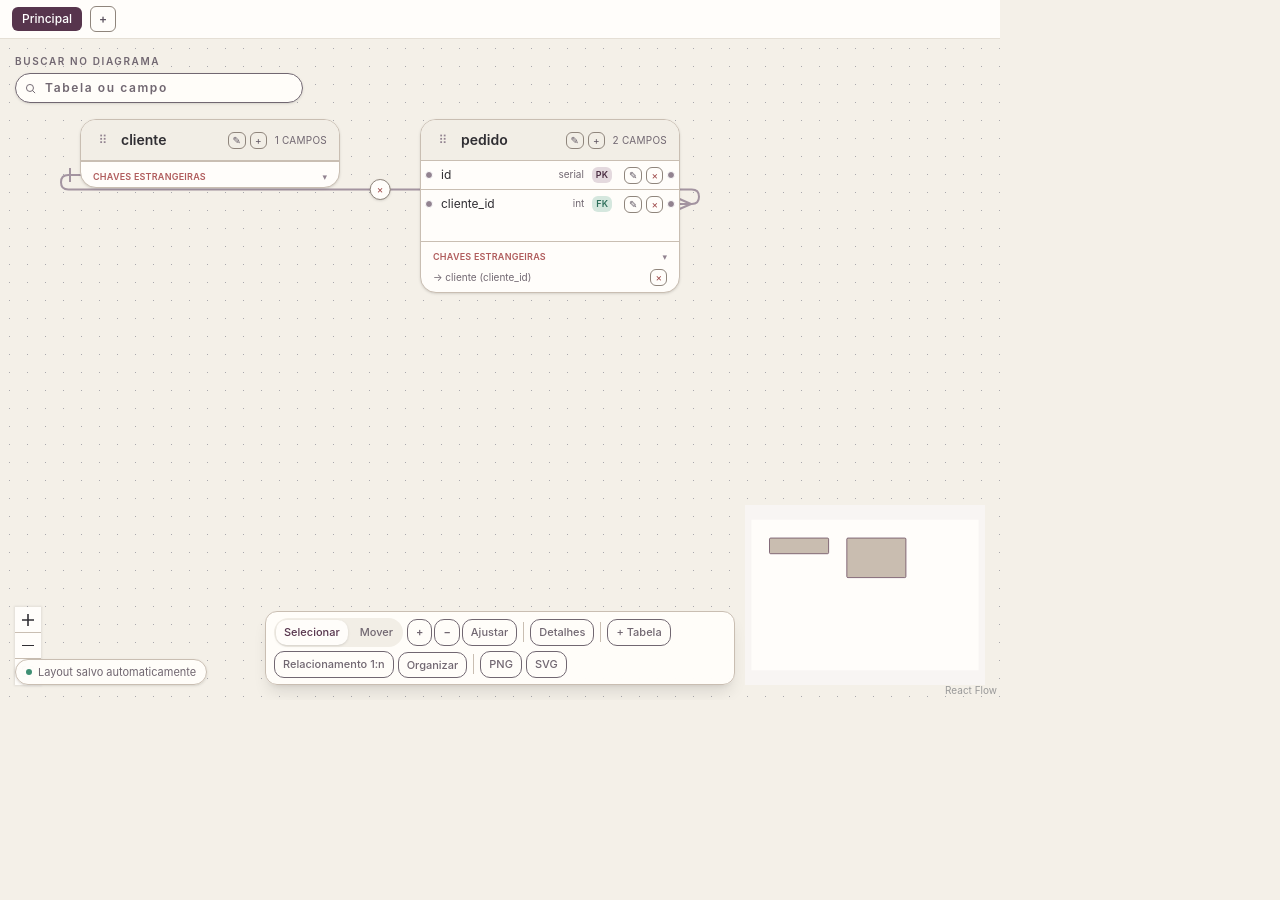
Test: DiagramCanvas editing › exclui tabela pelo menu de contexto apenas após confirmação
Right-click the element with test id "diagram-node-cliente" at [210, 154], box [80,119,340,188]
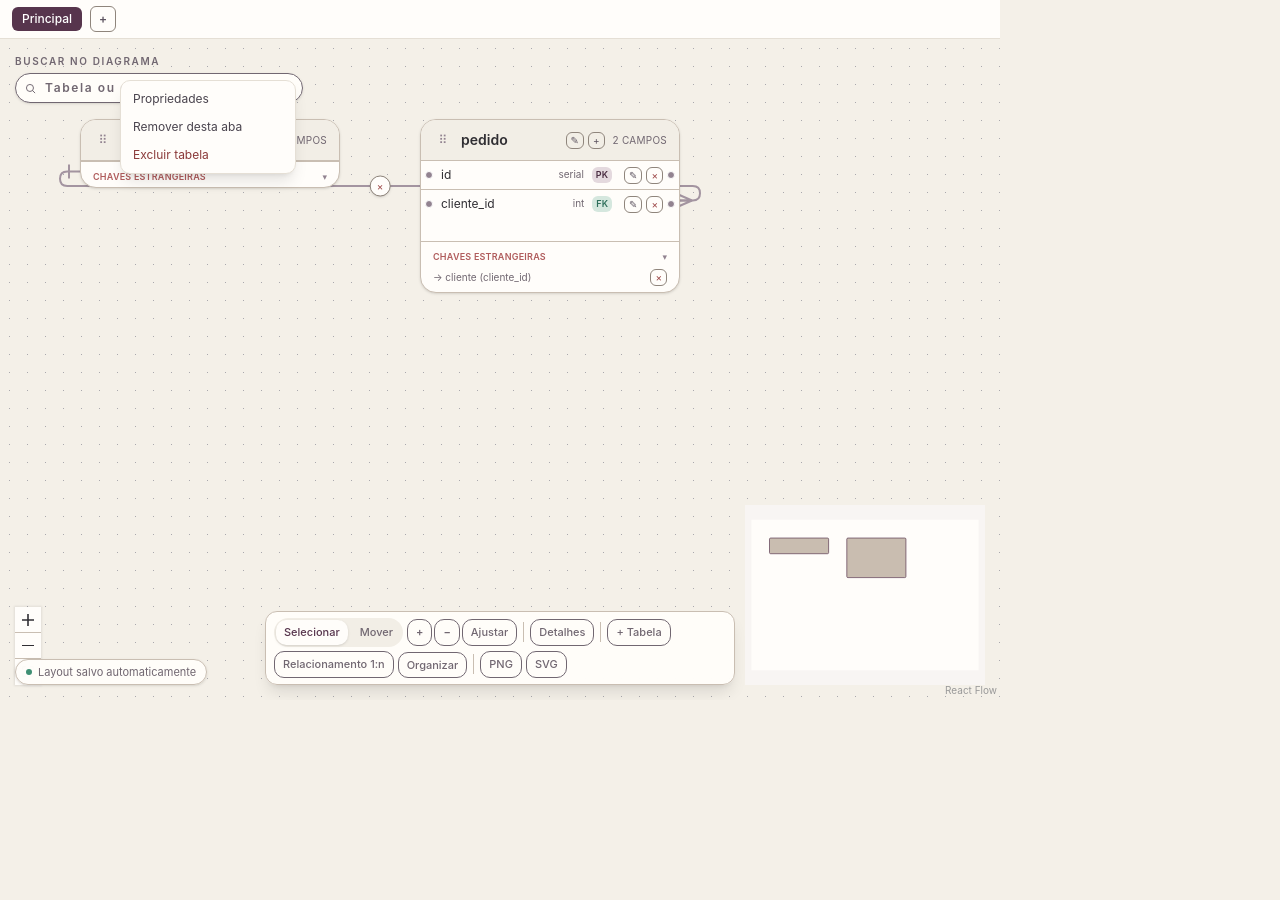
Click the menu item with test id "canvas-menu-delete-table" at [208, 155], box [121,141,295,169]
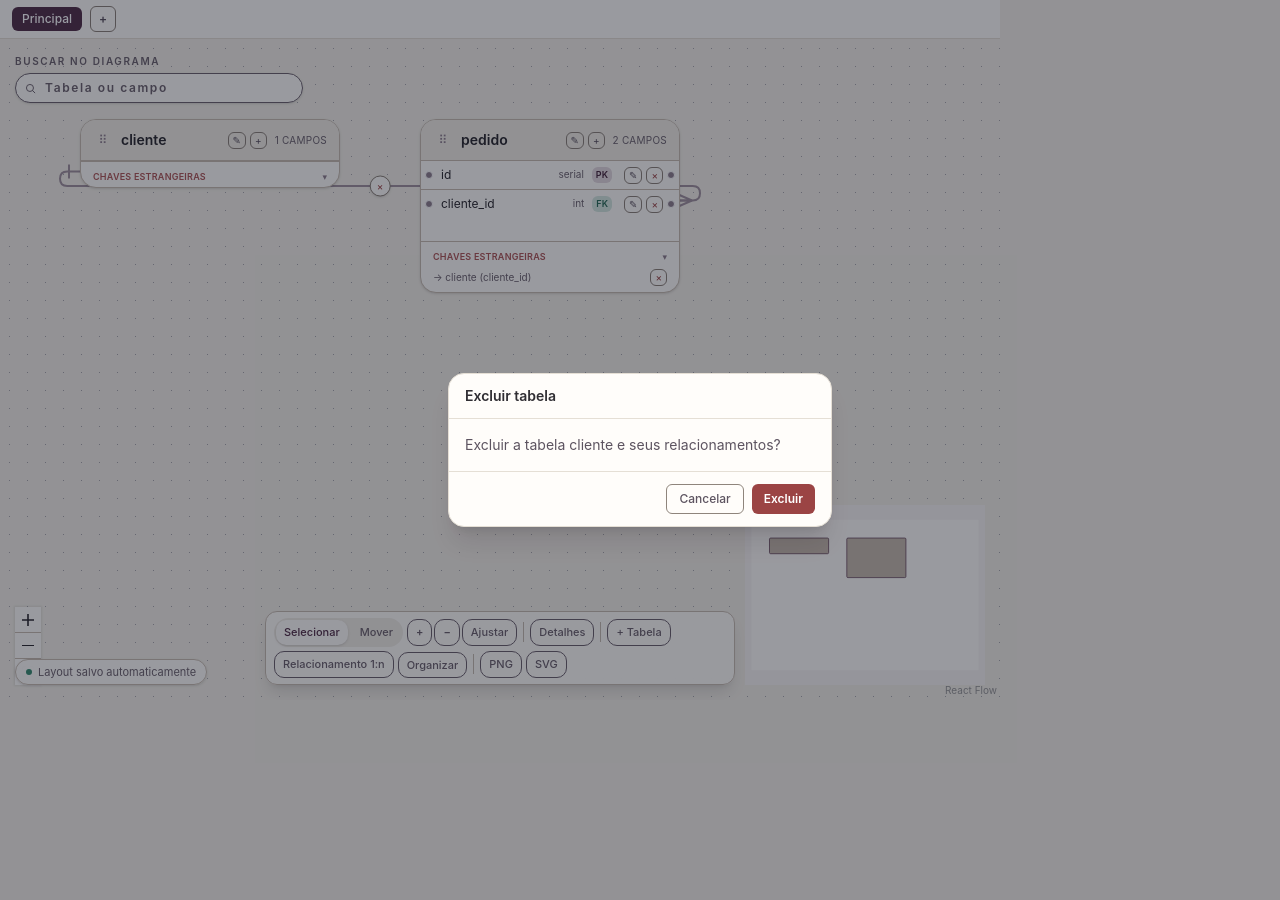
Click the button "Excluir" at [783, 499], box [752,484,815,514]
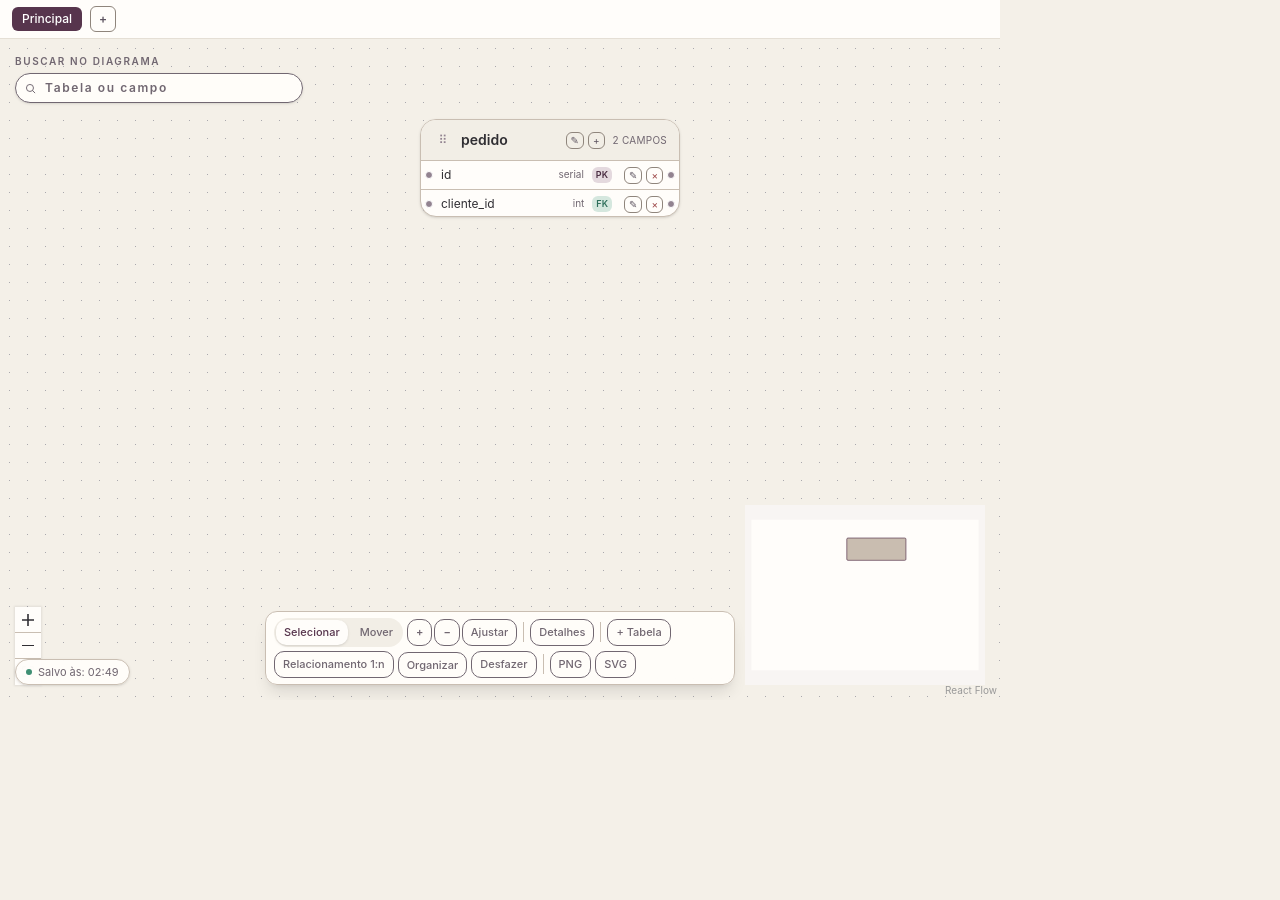
Now the element with test id "diagram-node-cliente" is gone
